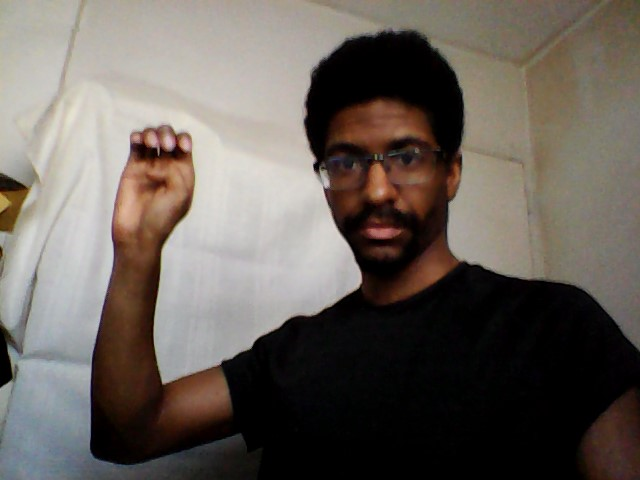e: (107, 121, 200, 261)
